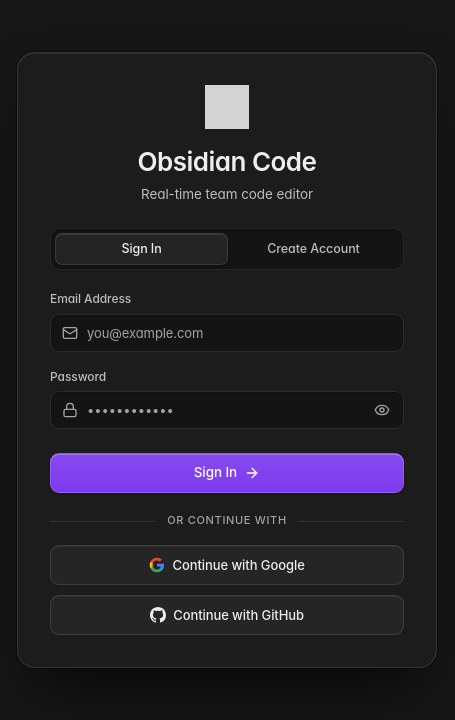
Scenario: AuthPage, Dashboard, App Routing & UI Primitives Button/Feature Interactions › AuthPage Interactive Flows & Buttons › switches between Sign In and Create Account via clicks and keyboard arrows, and toggles password visibility
Later steps or results of the test are not shown.
Expected: the field labelled "Full Name" is not shown
Switch via click
Click the tab "Create Account" at (314, 249), box 228,233 -> 399,265
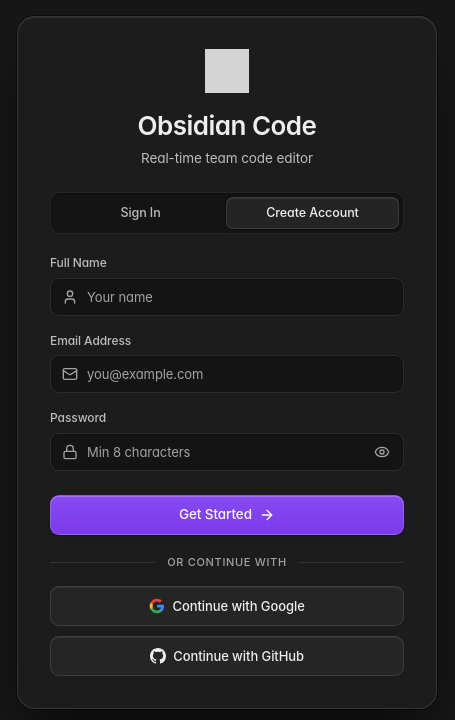
Expected: the field labelled "Full Name" is shown, 50,278 -> 404,316
Switch back via ArrowLeft on tablist
Press ArrowLeft in the element named "Authentication mode", box 50,192 -> 404,234
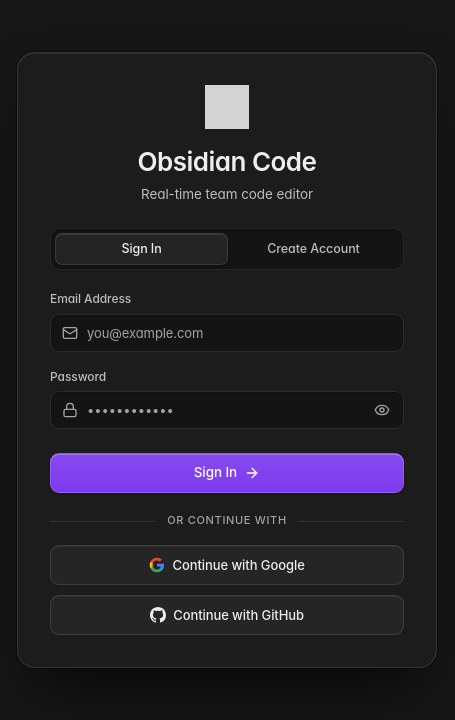
Expected: the label labelled "Full Name" is gone
